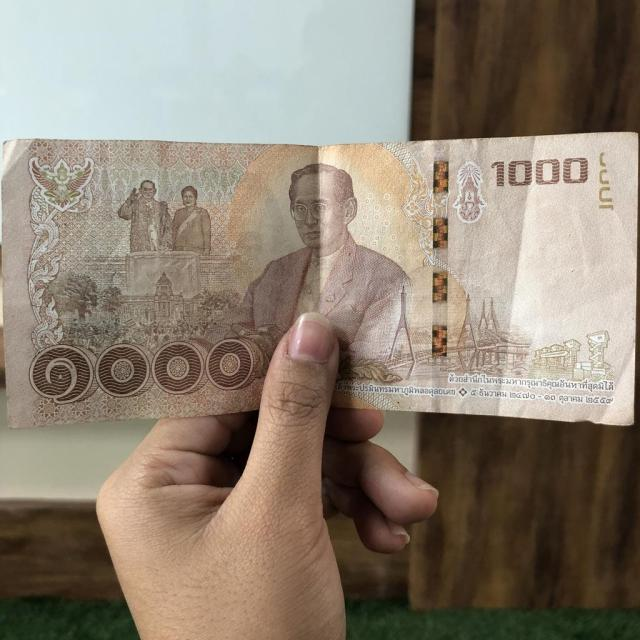THAI1000: (0, 133, 639, 432)
